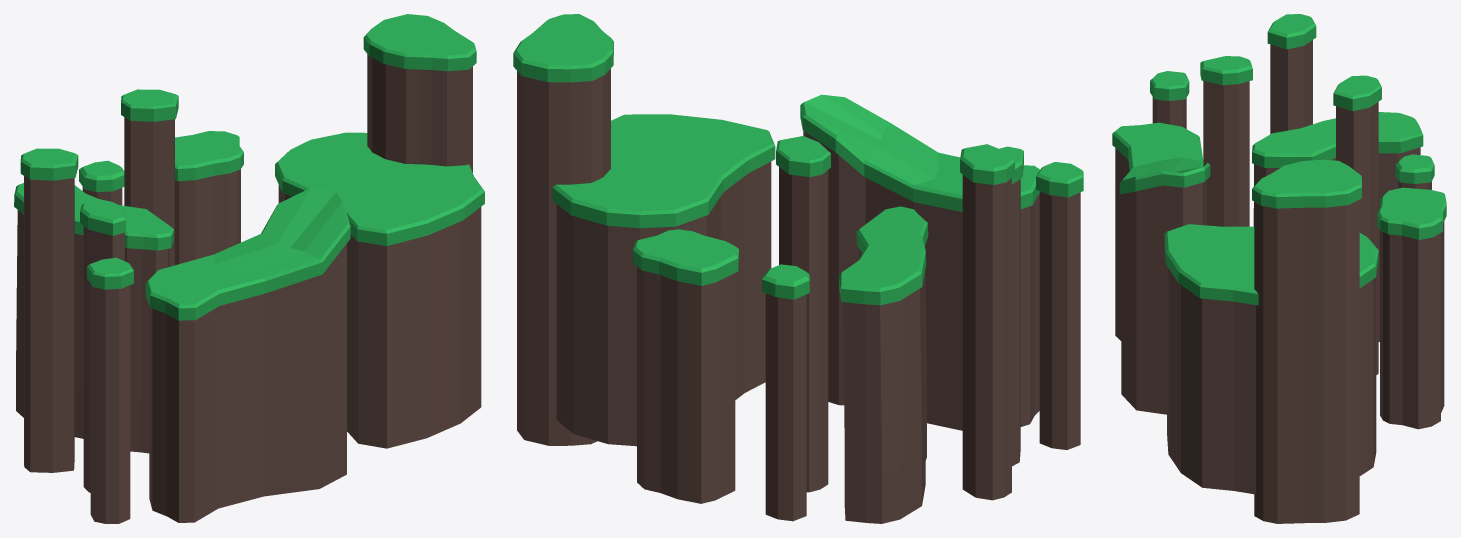
Rendered from test-level.glb.
3 views of the same model, side by side, from view 1: azimuth 30°, elevation 25°; view 2: azimuth 150°, elevation 25°; view 3: azimuth 270°, elevation 25° (orthographic). The views are drawn at different scales.
Visible parts, largest first — view 1: Platform-col.007, Platform-col.008, Platform-col.006, Platform-col.002, Platform-col.003, Platform-col.001, Platform-col.005, Platform-col.009, Platform-col.004, Platform-col; view 2: Platform-col.008, Platform-col.007, Platform-col.005, Platform-col.002, Platform-col.001, Platform-col.006, Platform-col.003, Platform-col.009, Platform-col, Platform-col.004; view 3: Platform-col.002, Platform-col.008, Platform-col.007, Platform-col.005, Platform-col.004, Platform-col.001, Platform-col.009, Platform-col.006, Platform-col.003, Platform-col.
Part boxes in pixels (x1,y1,x2,y2): Platform-col.007: (145, 187, 350, 522); Platform-col.008: (275, 132, 484, 448); Platform-col.006: (20, 148, 78, 472); Platform-col.002: (363, 14, 476, 172); Platform-col.003: (87, 257, 133, 523); Platform-col.001: (14, 183, 174, 453); Platform-col.005: (175, 131, 243, 265); Platform-col.009: (121, 89, 178, 266); Platform-col.004: (80, 199, 125, 492); Platform-col: (79, 160, 124, 205); Platform-col.008: (552, 114, 775, 446); Platform-col.007: (800, 94, 1039, 430); Platform-col.005: (633, 229, 738, 503); Platform-col.002: (513, 14, 613, 445); Platform-col.001: (838, 206, 928, 523); Platform-col.006: (960, 144, 1014, 500); Platform-col.003: (1036, 162, 1083, 449); Platform-col.009: (776, 136, 830, 492); Platform-col: (762, 264, 809, 521); Platform-col.004: (999, 146, 1023, 466); Platform-col.002: (1252, 159, 1361, 523); Platform-col.008: (1164, 224, 1378, 494); Platform-col.007: (1112, 122, 1210, 414); Platform-col.005: (1377, 187, 1446, 429); Platform-col.004: (1200, 56, 1252, 226); Platform-col.001: (1252, 112, 1423, 341); Platform-col.009: (1333, 75, 1381, 374); Platform-col.006: (1267, 14, 1316, 133); Platform-col.003: (1150, 71, 1189, 128); Platform-col: (1395, 154, 1434, 189).
Bounding box in the file's own units: 16.36 × 12.54 × 11.52.
